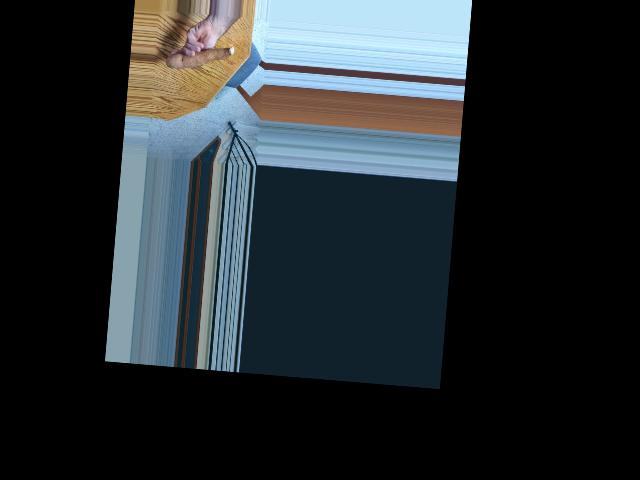sweet_potato: (167, 41, 235, 76)
